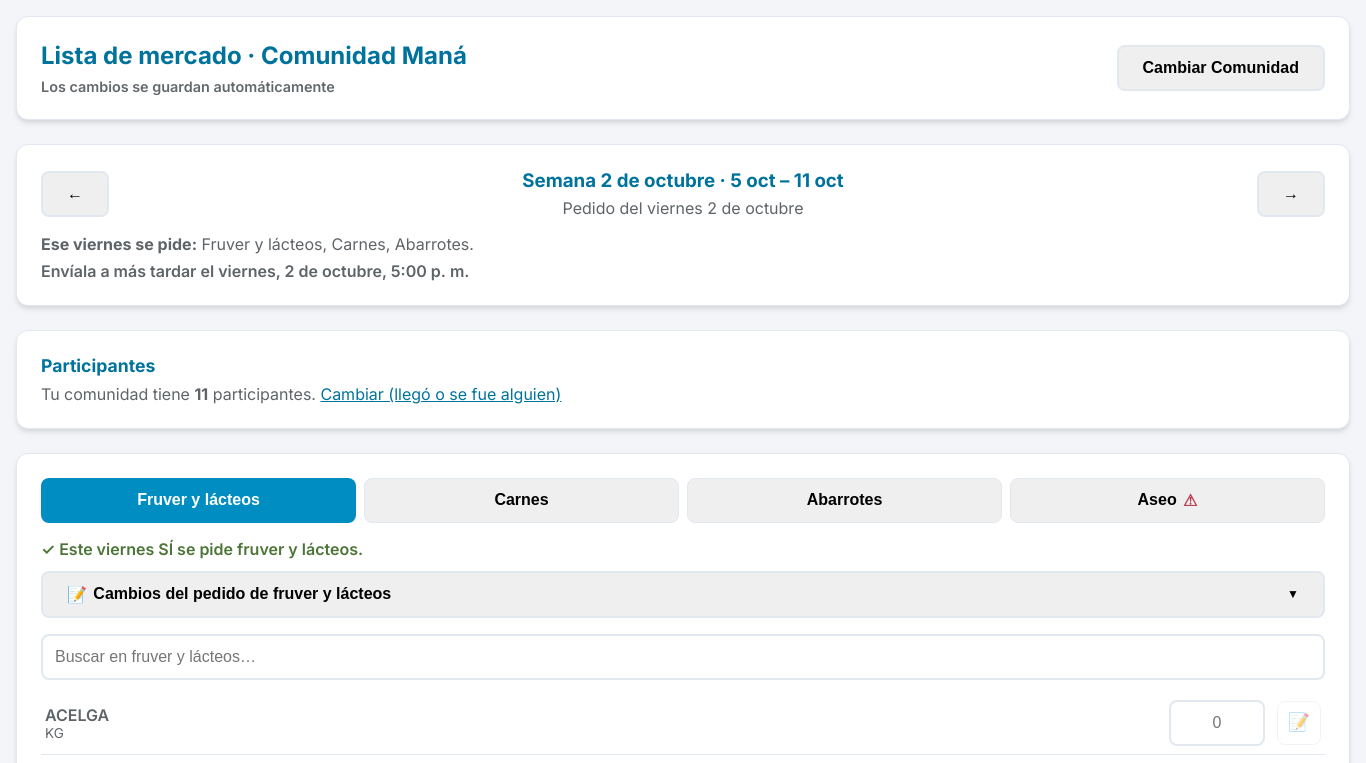
Test: lista de mercado: pestañas y búsqueda › cada pestaña muestra sus productos y cuántos se pidieron
Expected: the text "CARNE ASAR PORCION" is not shown
In the field labelled "ACELGA KG": coordinates (1217, 723) x1=1169 y1=700 x2=1265 y2=746, type "2"
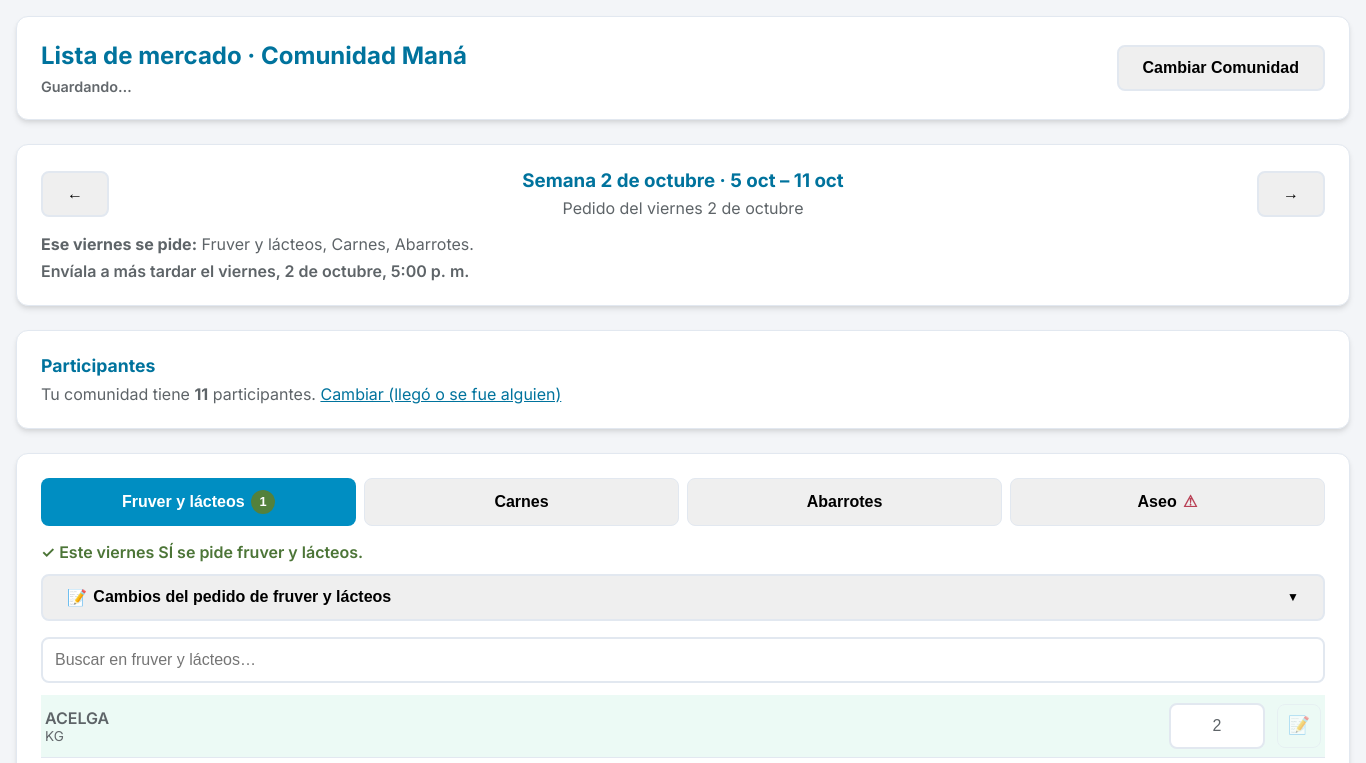
Now the tab "Fruver y lácteos 1" is shown, box x1=41 y1=478 x2=356 y2=526
Click the tab "Carnes": coordinates (522, 502) x1=364 y1=478 x2=679 y2=526
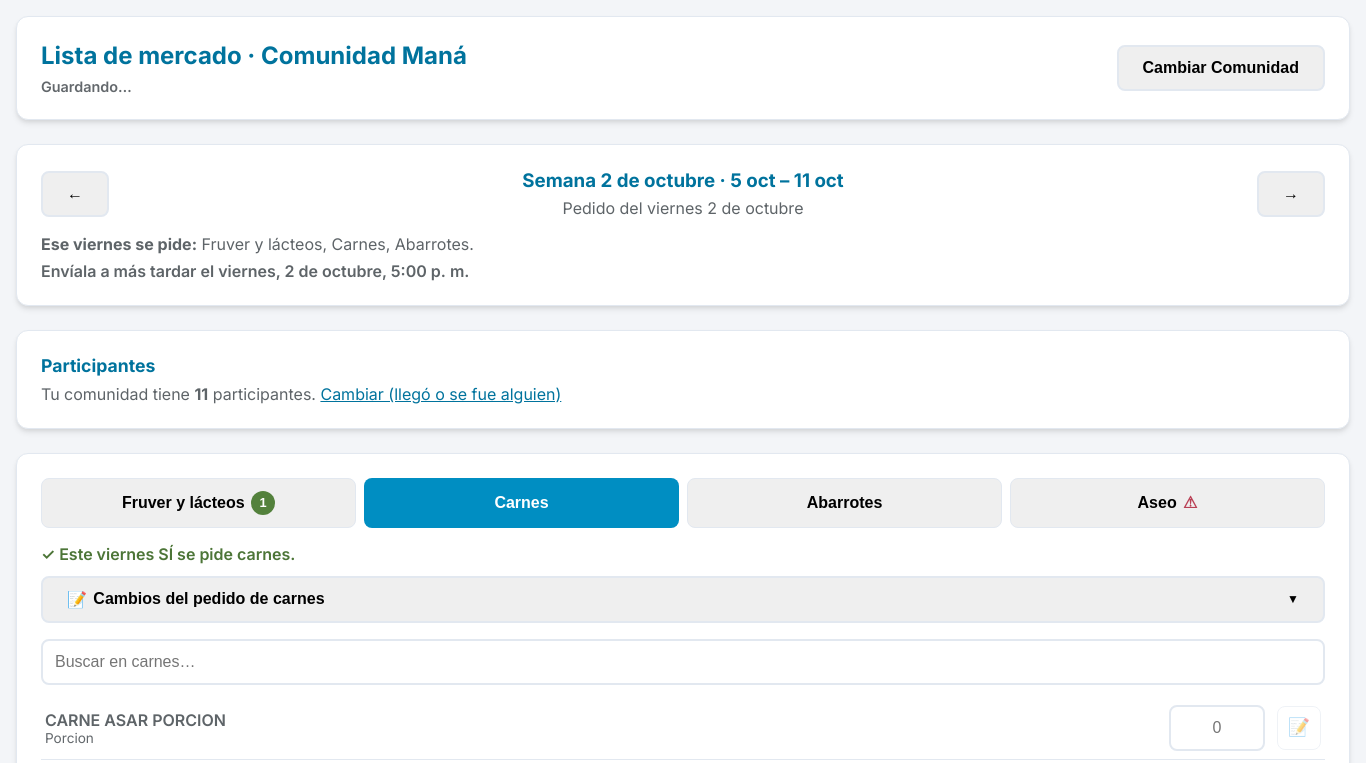
Now the text "CARNE ASAR PORCION" is shown, box x1=45 y1=710 x2=226 y2=730
Now the text "ACELGA" is gone
